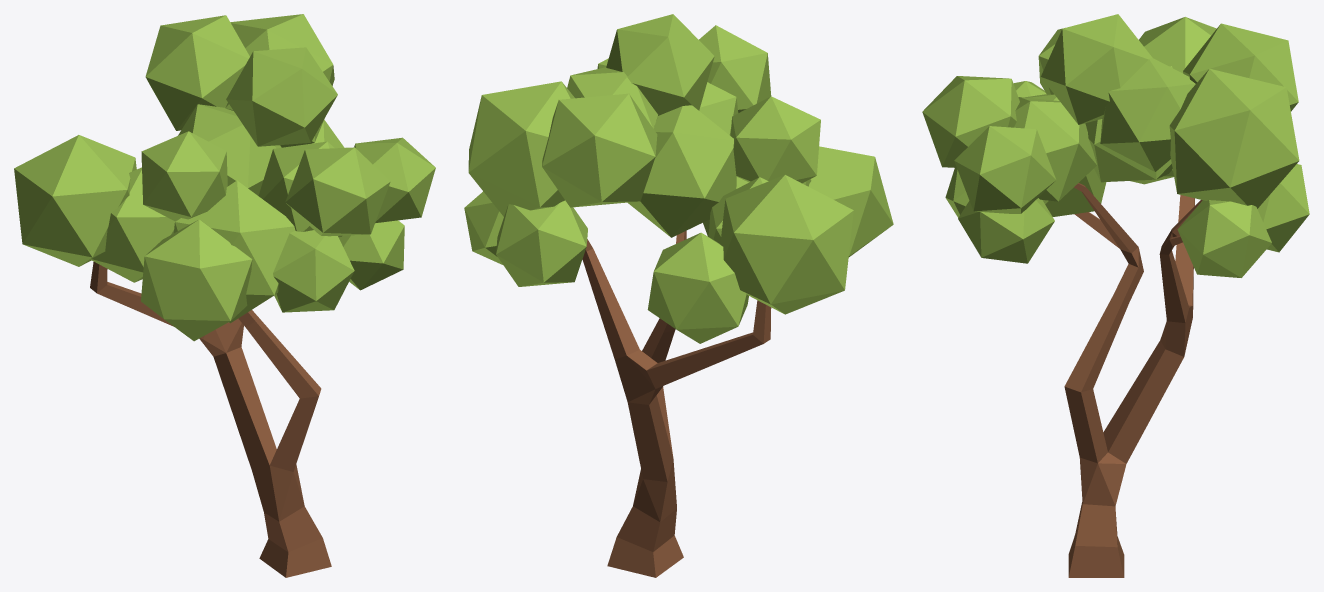
Rendered from Oak4.fbx.
The picture shows the model from 3 angles, left to right: view 1: azimuth 30°, elevation 25°; view 2: azimuth 150°, elevation 25°; view 3: azimuth 270°, elevation 25°; orthographic projection. The views are drawn at different scales.
Visible parts, largest first — view 1: MyObject.005; view 2: MyObject.005; view 3: MyObject.005.
Boxes of the visible parts, x1,y1,x2,y2 form: MyObject.005: (14, 14, 435, 577); MyObject.005: (464, 14, 893, 577); MyObject.005: (922, 14, 1309, 577).
Size of the model in its own units: 449 by 657 by 430.
1 material, 1 textured.
